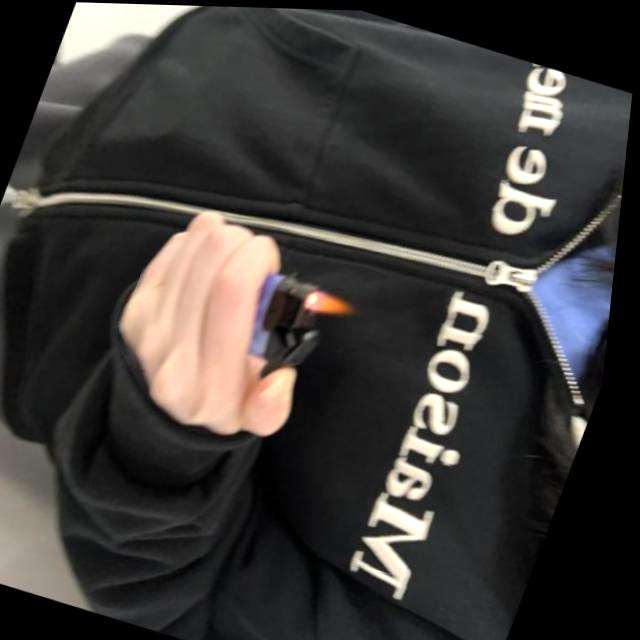fire: (304, 284, 368, 320)
